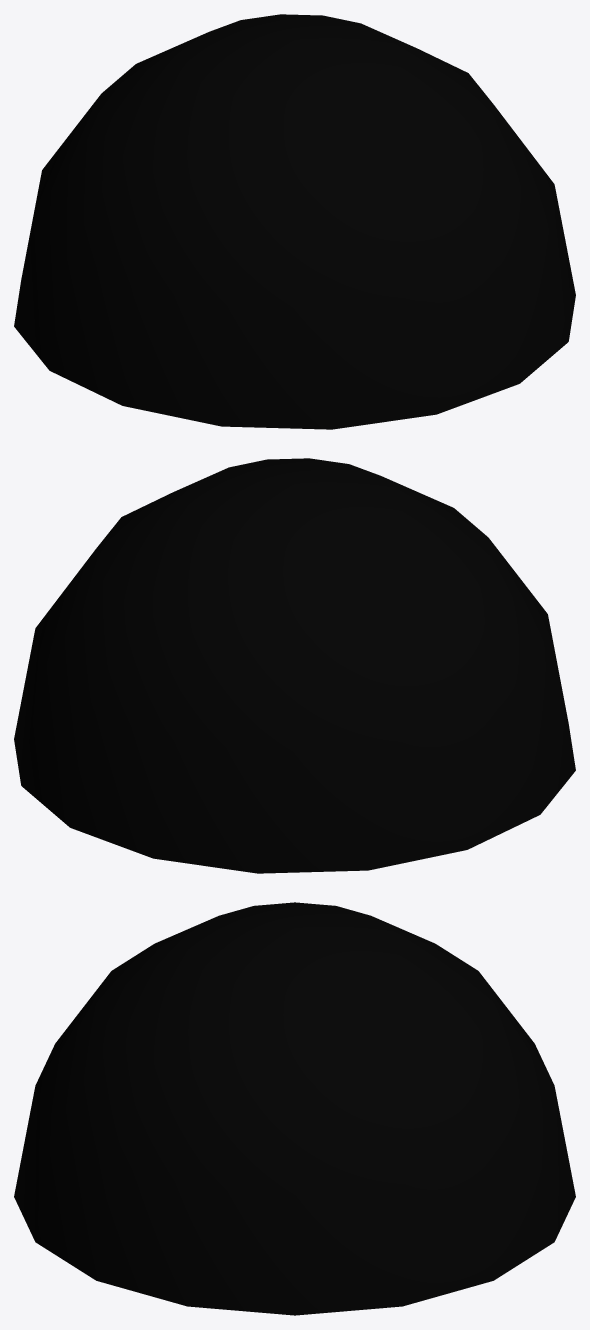
The model's file is skydome.obj.
The picture shows the model from 3 angles, top to bottom: view 1: azimuth 30°, elevation 25°; view 2: azimuth 150°, elevation 25°; view 3: azimuth 270°, elevation 25°; orthographic projection.
Visible parts, largest first — view 1: Sphere01; view 2: Sphere01; view 3: Sphere01.
Boxes of the visible parts, x1=… form: Sphere01: x1=14, y1=14, x2=575, y2=429; Sphere01: x1=14, y1=458, x2=575, y2=873; Sphere01: x1=14, y1=902, x2=575, y2=1315.
Size of the model in its own units: 12000 by 6322 by 12000.
